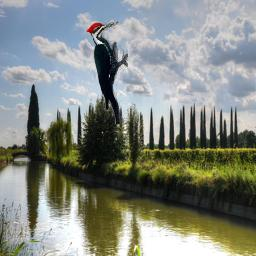Woodpecker: (86, 20, 128, 125)
